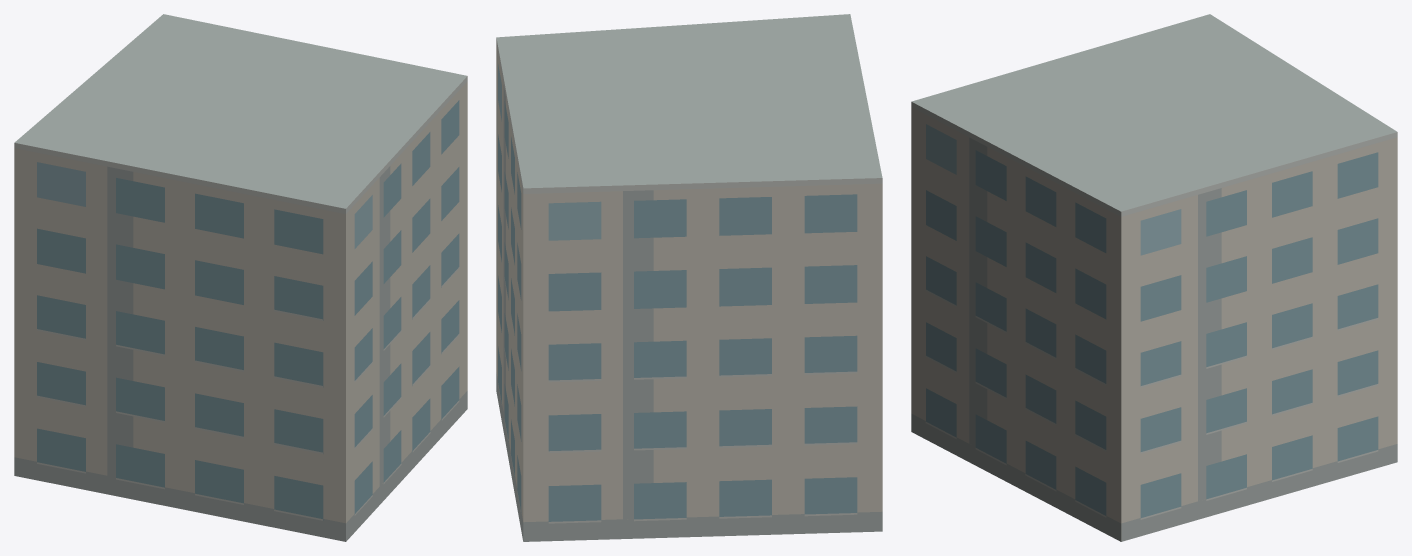
File: survey-upis-32773799.glb
3 renders of one model, left to right at view 1: azimuth 30°, elevation 25°; view 2: azimuth 150°, elevation 25°; view 3: azimuth 270°, elevation 25°, orthographic. The views are drawn at different scales.
Visible parts, largest first — view 1: survey-upis-32773799.tmp; view 2: survey-upis-32773799.tmp; view 3: survey-upis-32773799.tmp.
Boxes of the visible parts, left/top/right/bottom form: survey-upis-32773799.tmp: left=14, top=14, right=467, bottom=541; survey-upis-32773799.tmp: left=496, top=14, right=882, bottom=541; survey-upis-32773799.tmp: left=911, top=14, right=1397, bottom=541.
Bounding box in the file's own units: 19.59 × 15.25 × 20.37.
